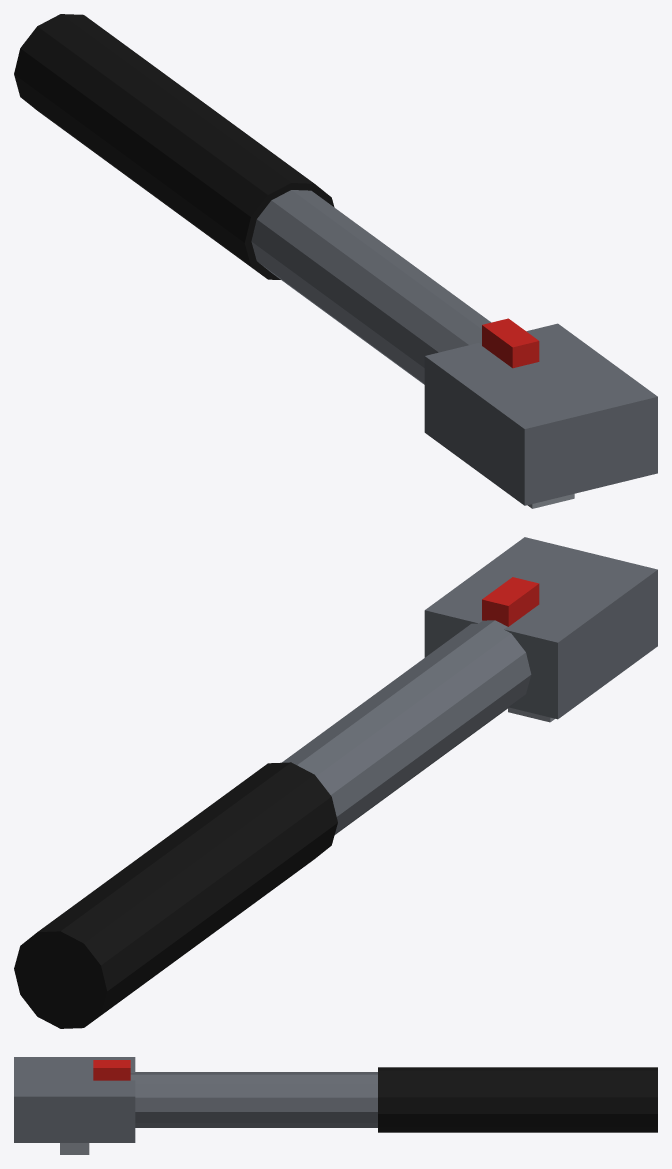
Rendered from TL_SocketWrench.fbx.
3 renders of one model, top to bottom at view 1: azimuth 30°, elevation 25°; view 2: azimuth 150°, elevation 25°; view 3: azimuth 270°, elevation 25°, orthographic. The views are drawn at different scales.
Parts seen in each view (by area): view 1: TL_SocketWrench, Grip, Poke_Ratchet; view 2: TL_SocketWrench, Grip, Poke_Ratchet; view 3: TL_SocketWrench, Grip, Poke_Ratchet, DriveSquare.
Part boxes in pixels (x1,y1,x2,y2): TL_SocketWrench: (251, 190, 657, 505); Grip: (14, 14, 334, 279); Poke_Ratchet: (482, 318, 539, 368); TL_SocketWrench: (282, 537, 657, 834); Grip: (14, 762, 337, 1028); Poke_Ratchet: (482, 577, 539, 626); TL_SocketWrench: (14, 1057, 377, 1142); Grip: (378, 1067, 657, 1132); Poke_Ratchet: (93, 1060, 130, 1080); DriveSquare: (60, 1143, 89, 1154).
Size of the model in its own units: 0.04 by 0.04 by 0.276.
